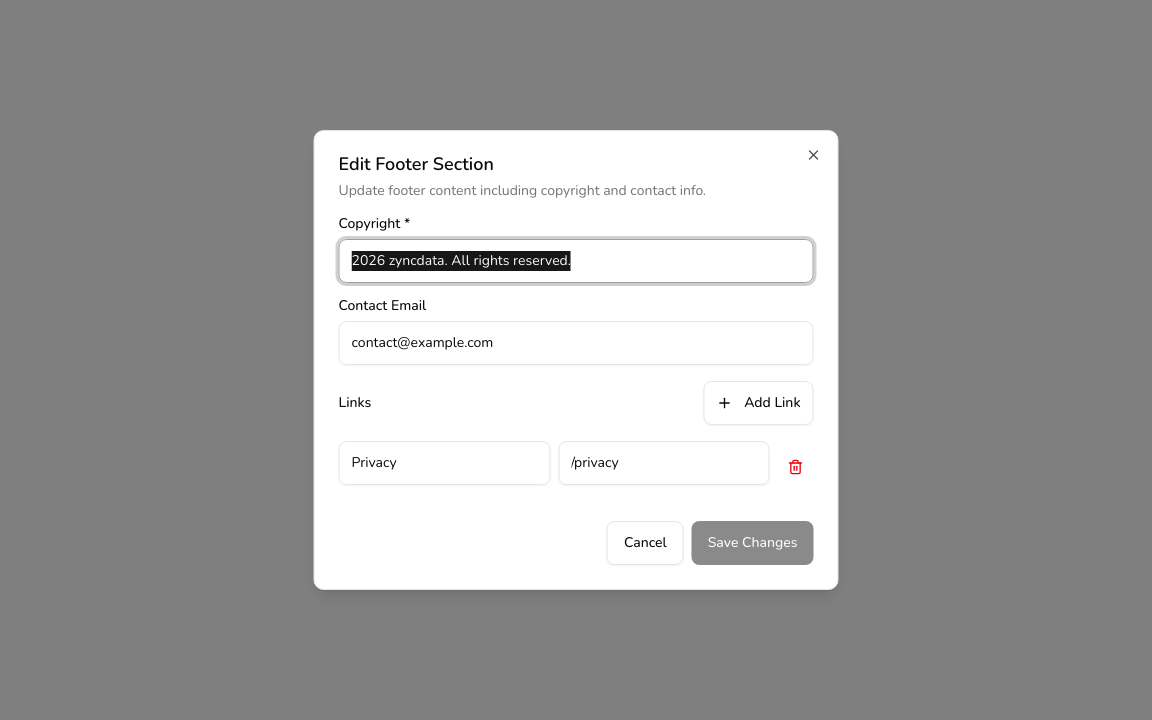
Test: FooterEditor › adds a new link when Add Link is clicked
The image size is (1152, 720).
Click the button with test id "add-link-button" at point(758, 403), box x1=703 y1=381 x2=814 y2=425
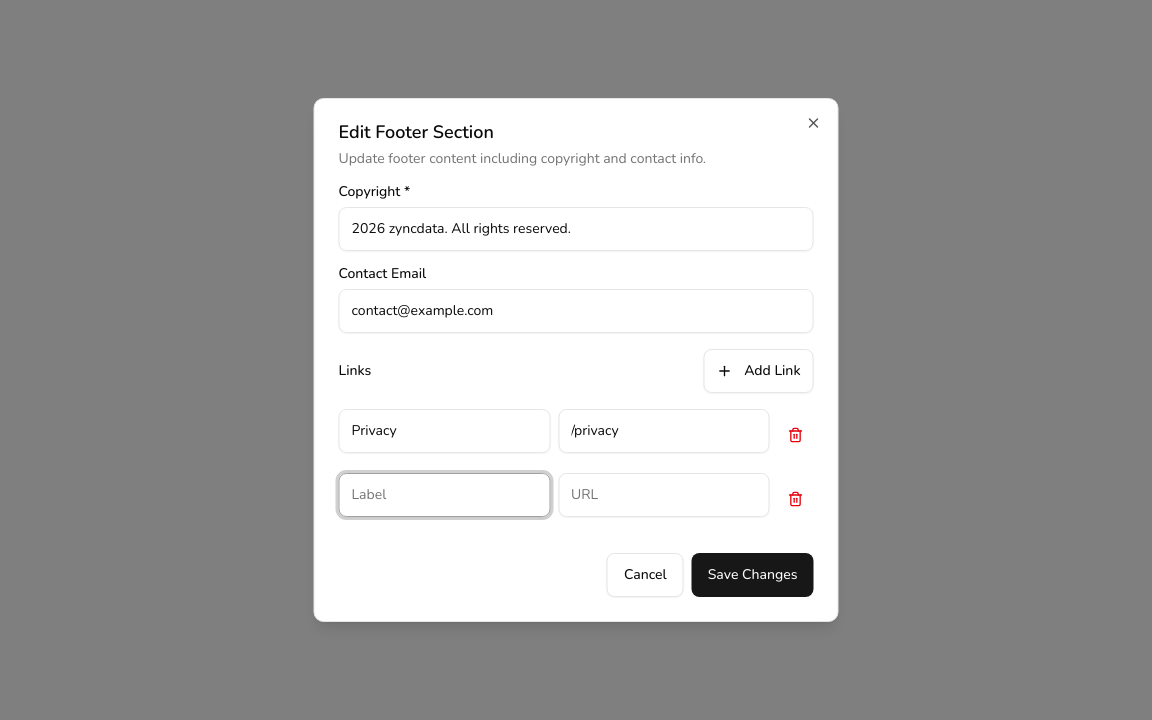
Expected: the element with test id "link-item-1" is shown, x1=338 y1=473 x2=814 y2=521
